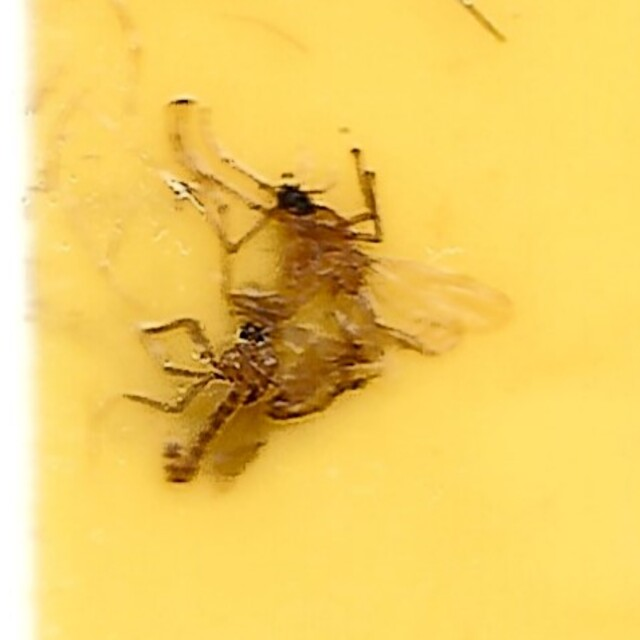Nematocera: (211, 152, 506, 352), (134, 297, 374, 488)
